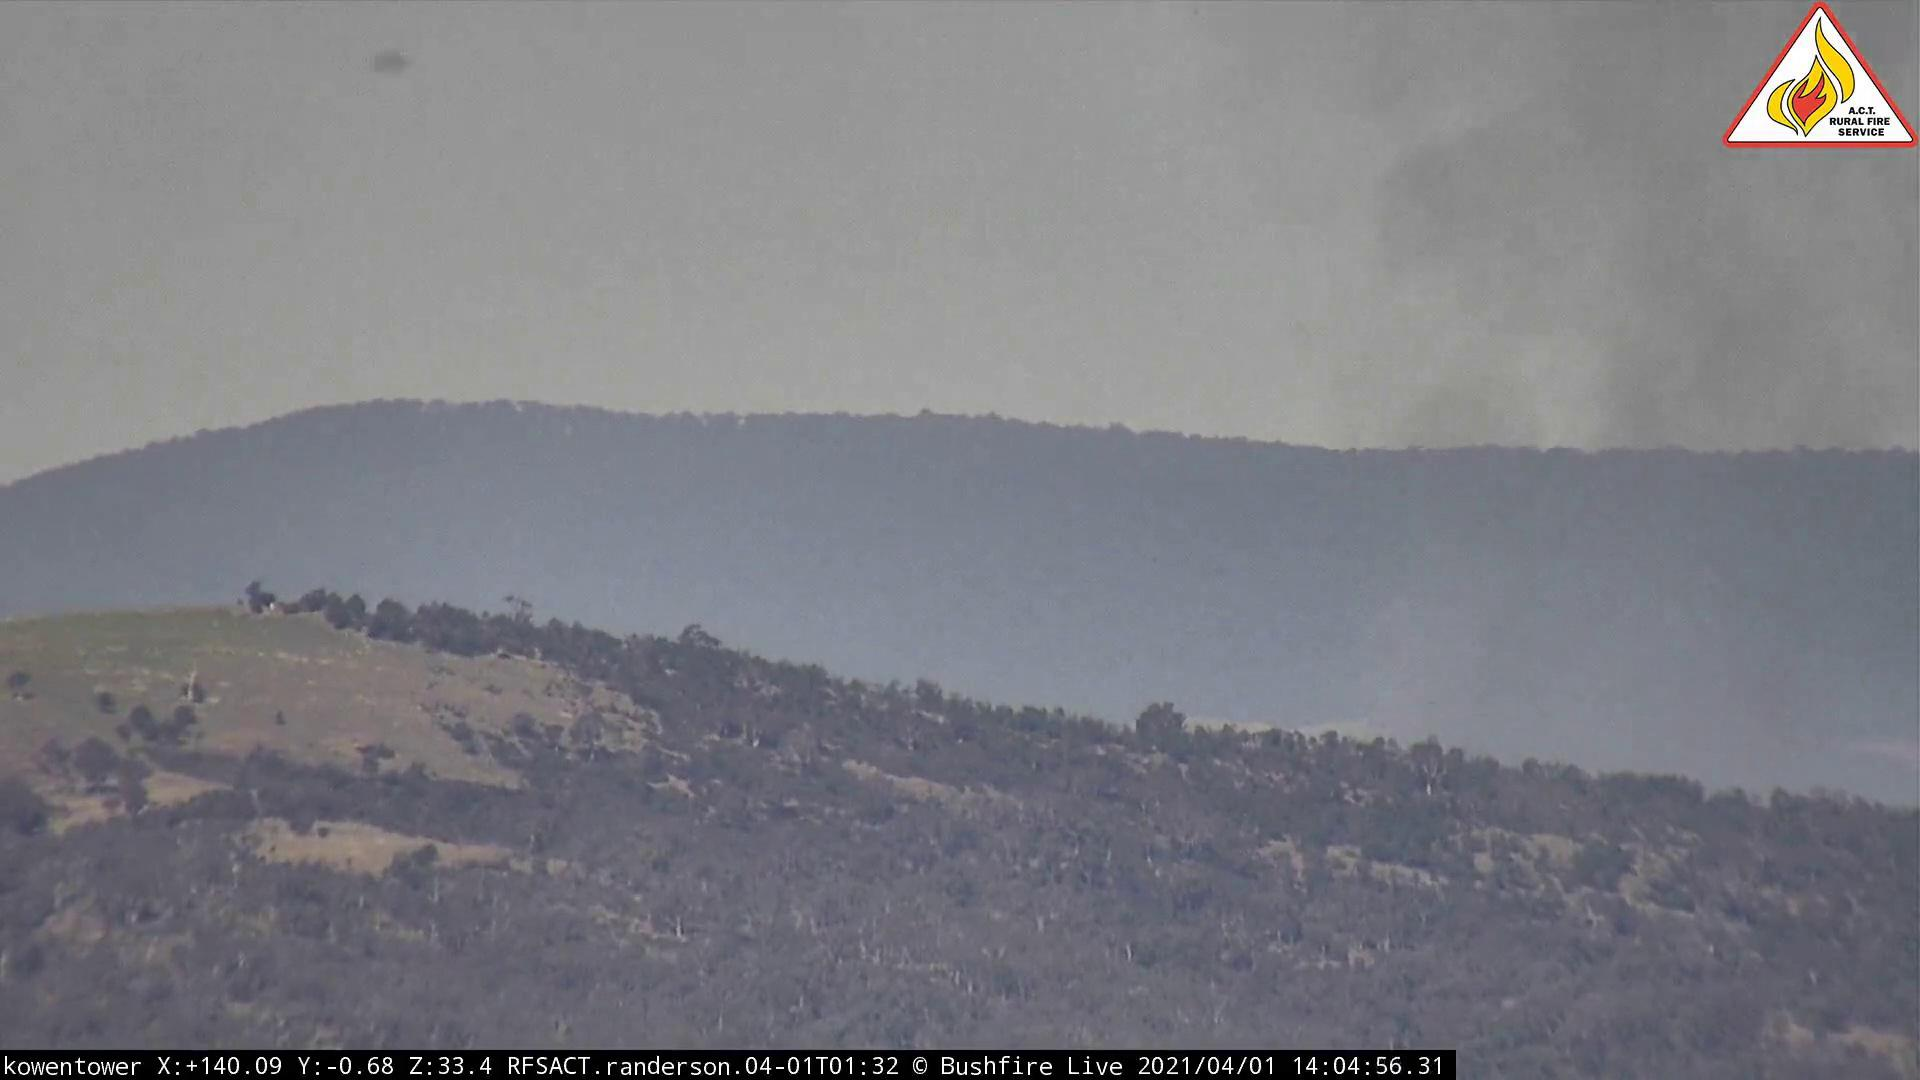Smoke: (1247, 165, 1920, 869)
